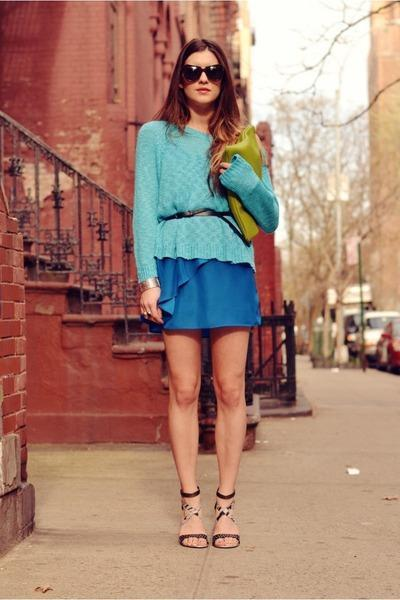bag: (204, 108, 273, 246)
jacket: (133, 121, 278, 283)
shoe: (178, 492, 239, 548)
skirt: (156, 257, 261, 328)
sunglass: (204, 60, 232, 91)
